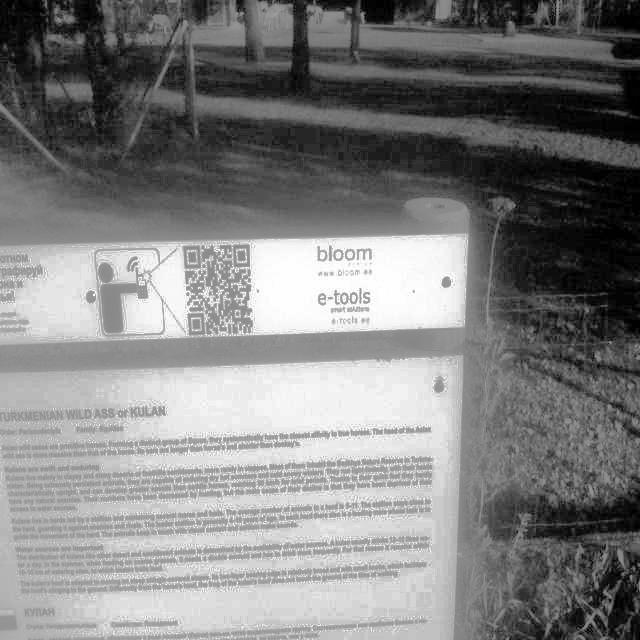qr_code: (184, 245, 253, 335)
